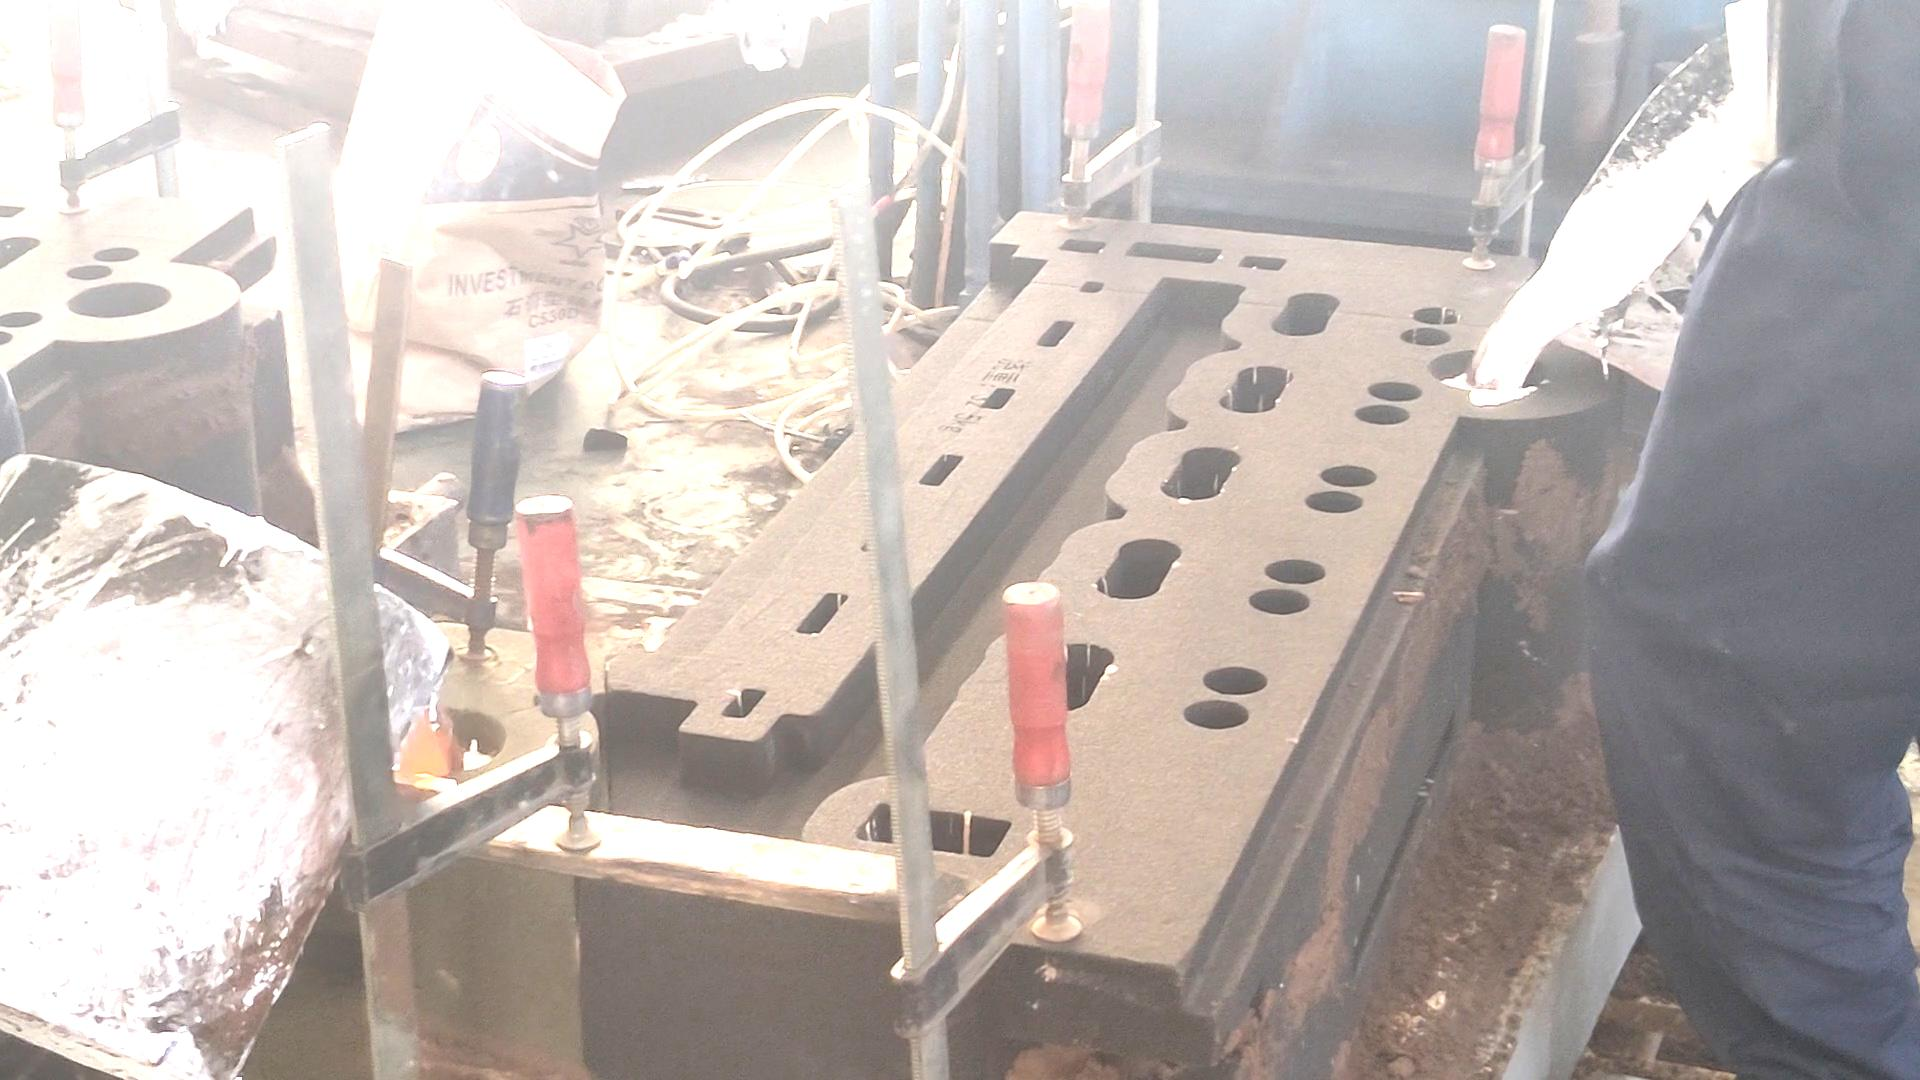pouring hole: (394, 703, 509, 778), (1424, 347, 1548, 396), (66, 281, 174, 320)
